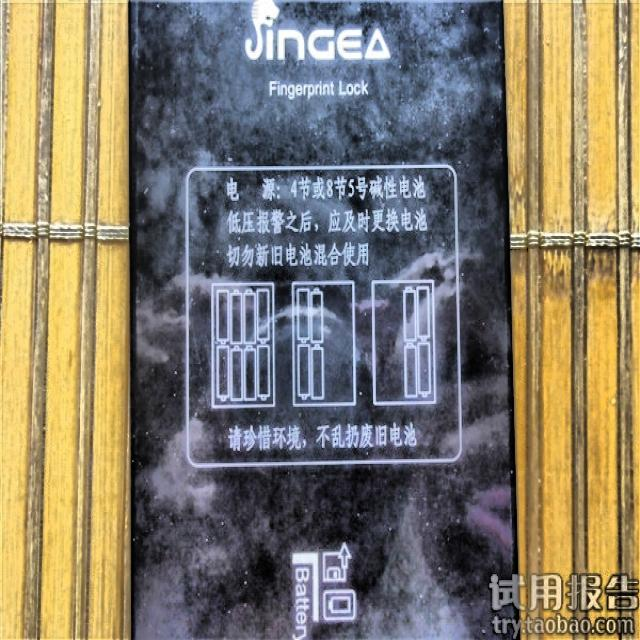Non-Valuable Waste - Batteries: (131, 2, 519, 638)
